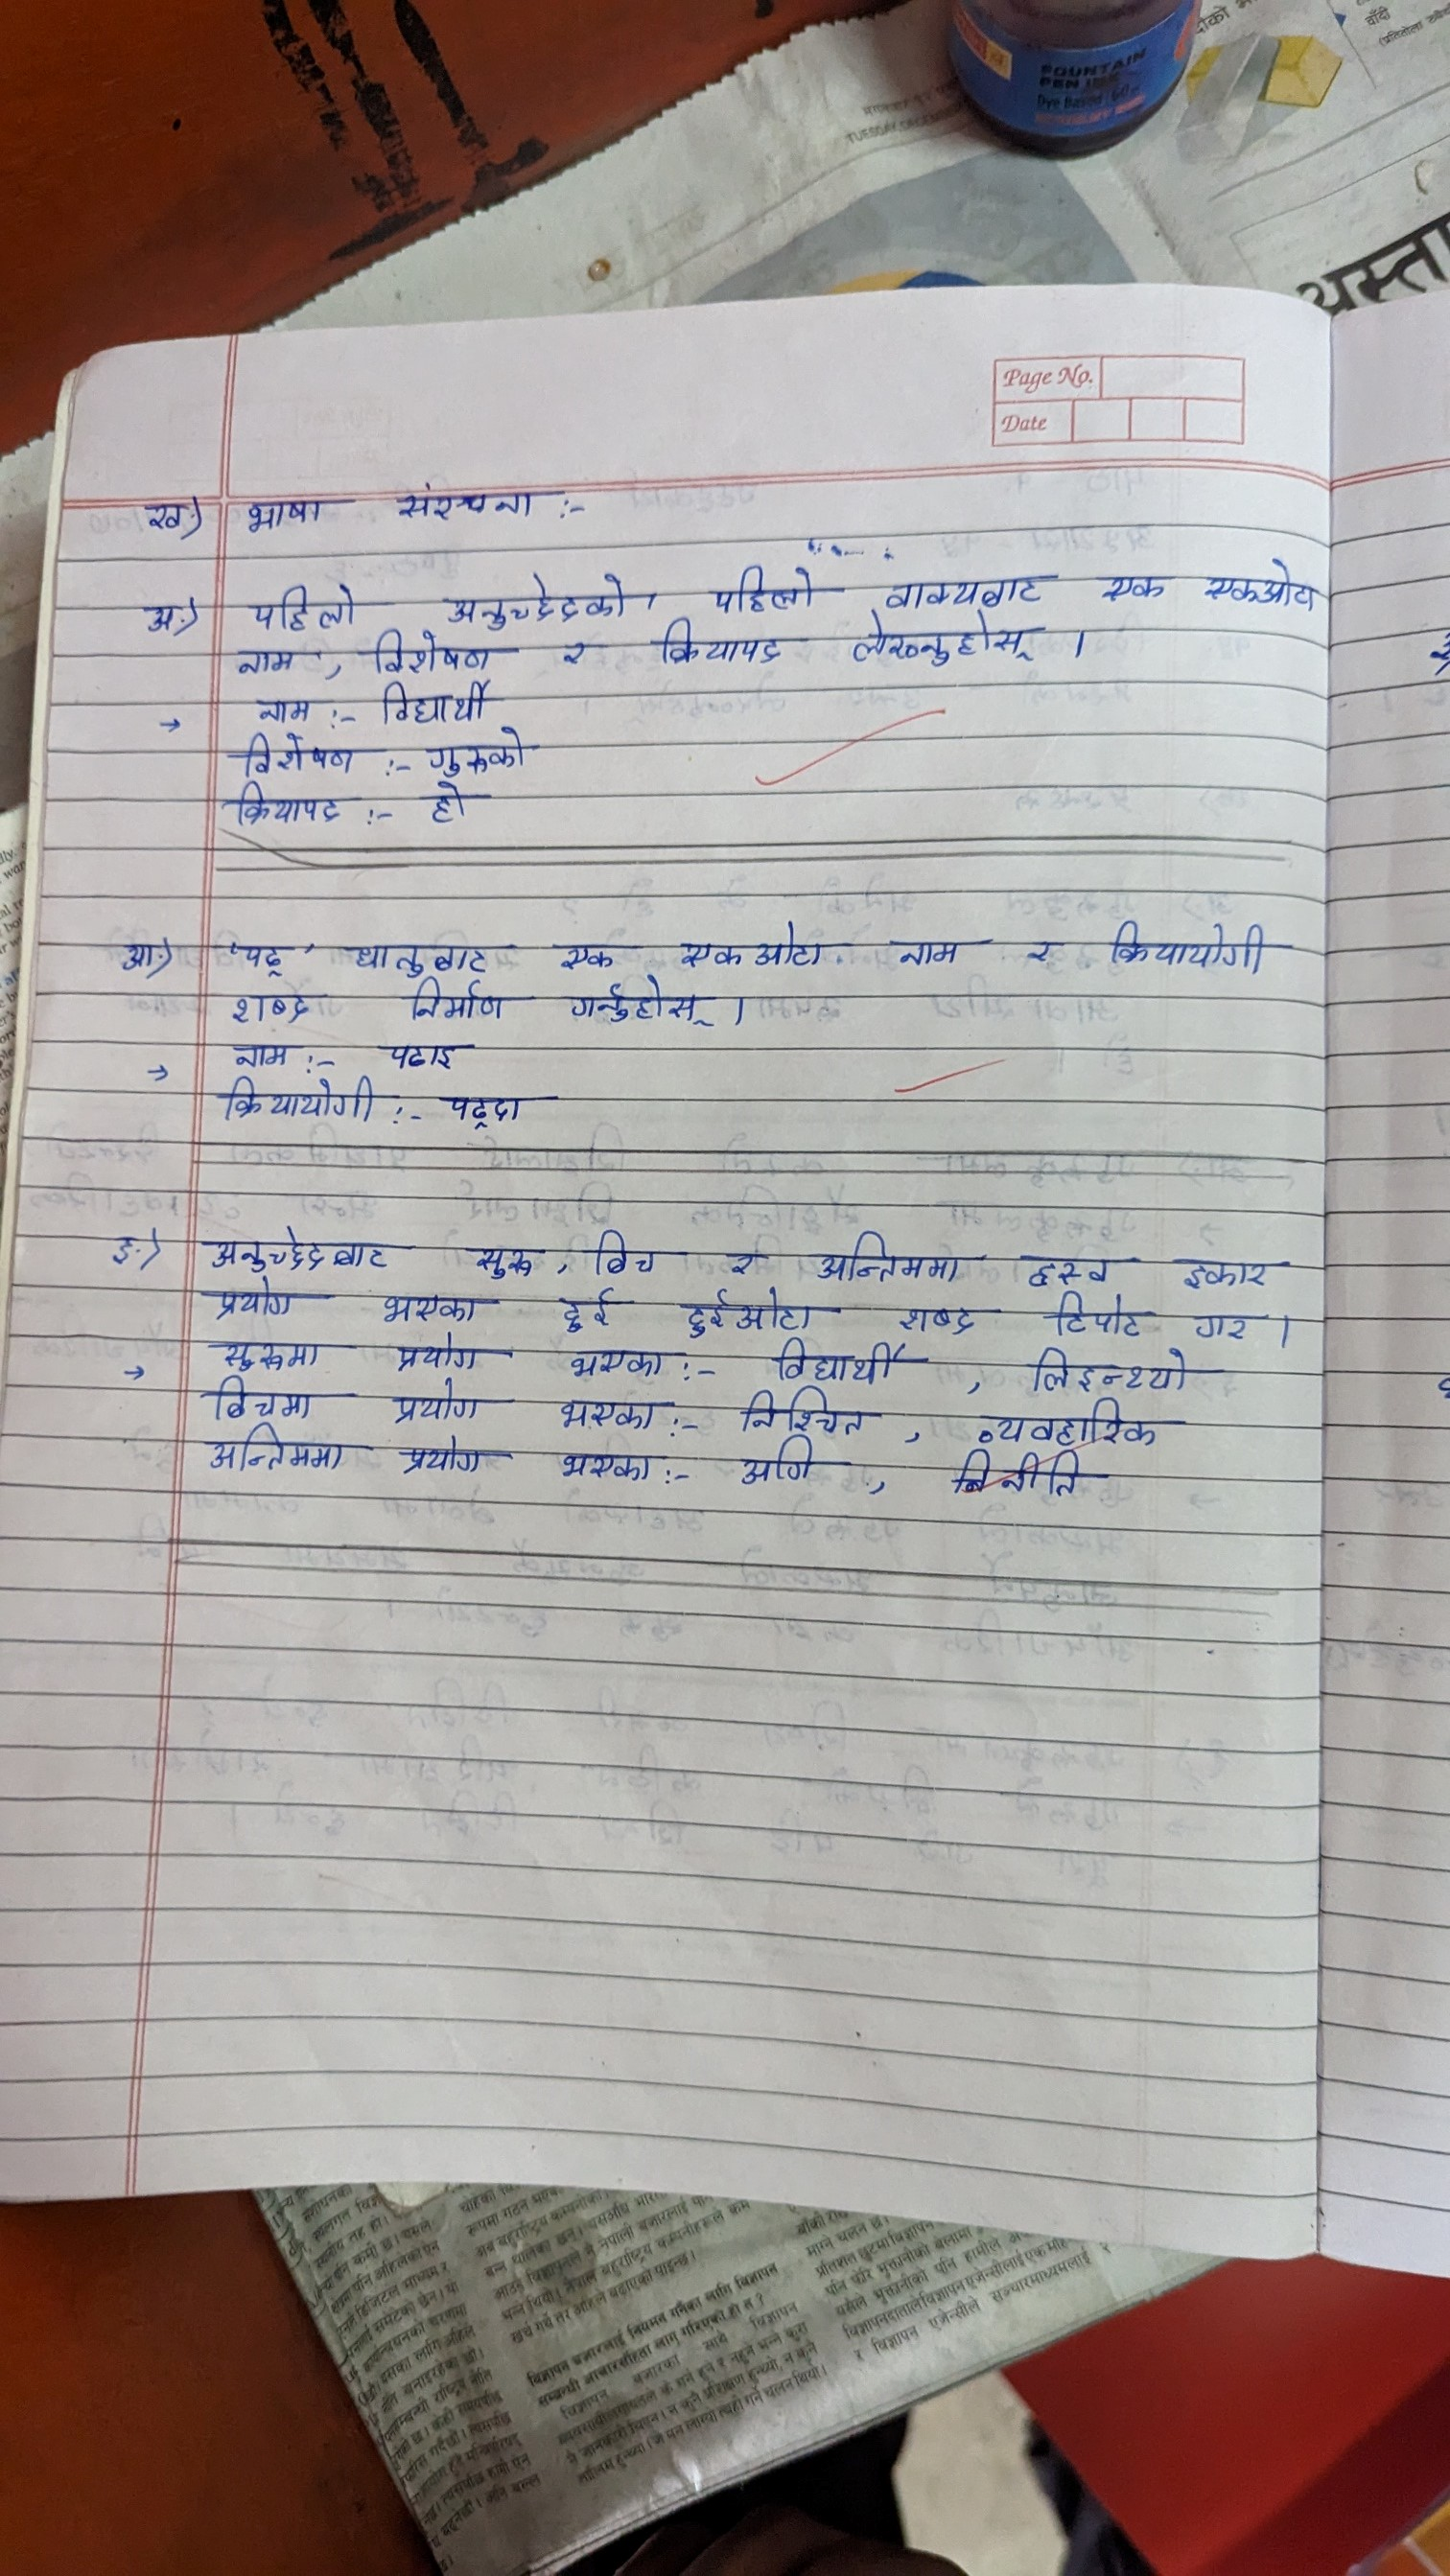text: (443, 570, 630, 626), (878, 556, 1066, 612), (846, 614, 1032, 671), (188, 1226, 400, 1276), (1103, 918, 1280, 975), (970, 1399, 1167, 1449), (809, 1230, 965, 1286), (388, 476, 559, 527), (1030, 1345, 1195, 1396), (675, 1286, 839, 1338), (729, 1389, 894, 1438), (202, 1424, 356, 1474), (563, 980, 717, 1028), (673, 924, 827, 971), (221, 1076, 375, 1123), (636, 621, 786, 669), (343, 931, 497, 977), (374, 980, 526, 1026), (1195, 559, 1324, 612), (218, 490, 347, 541), (241, 586, 370, 637), (703, 566, 832, 617), (374, 678, 503, 729), (416, 731, 545, 778), (221, 784, 351, 832), (767, 1341, 910, 1384), (1177, 1242, 1291, 1295), (986, 1447, 1099, 1499), (374, 630, 501, 674), (726, 1438, 834, 1488), (232, 736, 363, 777), (1034, 1292, 1149, 1334), (207, 1376, 317, 1421), (375, 1382, 485, 1426), (559, 1343, 669, 1387), (554, 1394, 664, 1438), (389, 1437, 499, 1481), (451, 1235, 561, 1279), (428, 1093, 542, 1136), (216, 936, 329, 978), (382, 1336, 490, 1380), (556, 1447, 664, 1491), (221, 991, 333, 1033), (207, 1277, 303, 1327), (1018, 1247, 1133, 1288), (377, 1033, 490, 1074), (862, 934, 976, 975), (591, 1228, 676, 1281), (551, 1286, 636, 1338), (381, 1288, 476, 1332), (140, 589, 211, 644), (230, 646, 313, 686), (1091, 566, 1174, 607), (538, 635, 620, 676), (246, 692, 328, 731), (218, 1039, 312, 1072), (414, 782, 482, 828), (545, 941, 637, 975), (138, 490, 200, 540), (1007, 931, 1069, 977), (899, 1300, 974, 1338), (1193, 1307, 1253, 1346), (721, 1244, 767, 1281), (119, 938, 165, 975), (101, 1233, 147, 1269)
